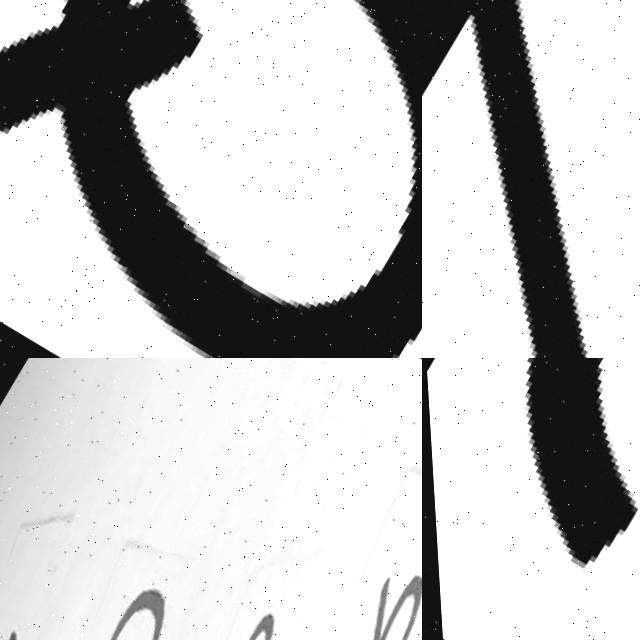0: (29, 540, 225, 640)
9: (141, 562, 333, 640), (297, 531, 422, 640)
C: (517, 358, 634, 568)
Q: (0, 0, 422, 358)
Z: (422, 0, 640, 358)
